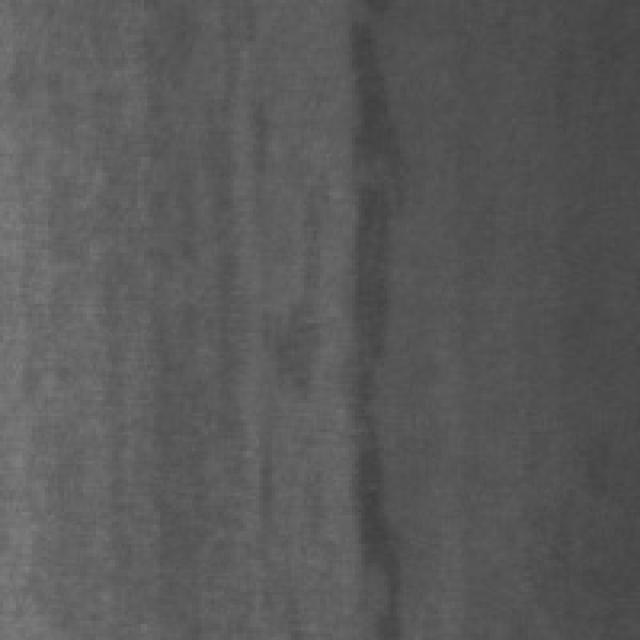inclusion: (276, 3, 422, 627)
